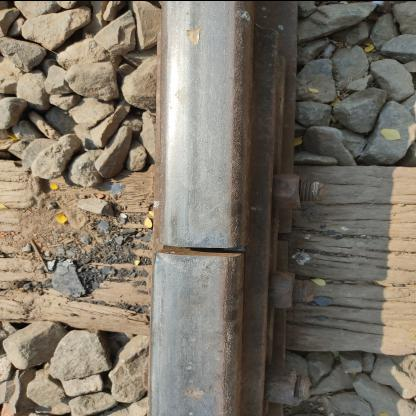Non Defective: (75, 148, 297, 340)
